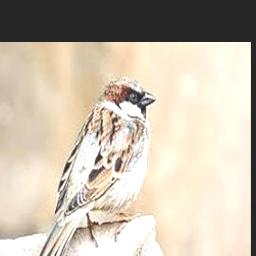Sparrow: (33, 75, 157, 256)
